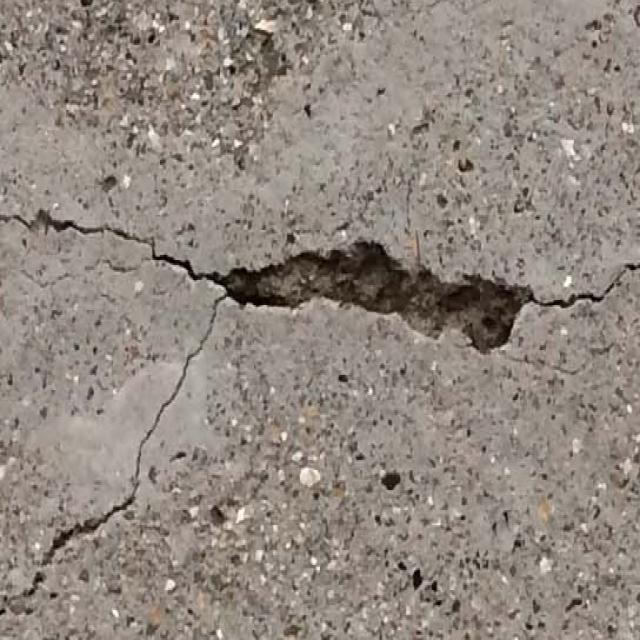Diagonal: (545, 257, 640, 329)
Network: (0, 188, 258, 640)
Turtle-shell patterned: (271, 224, 537, 360)
